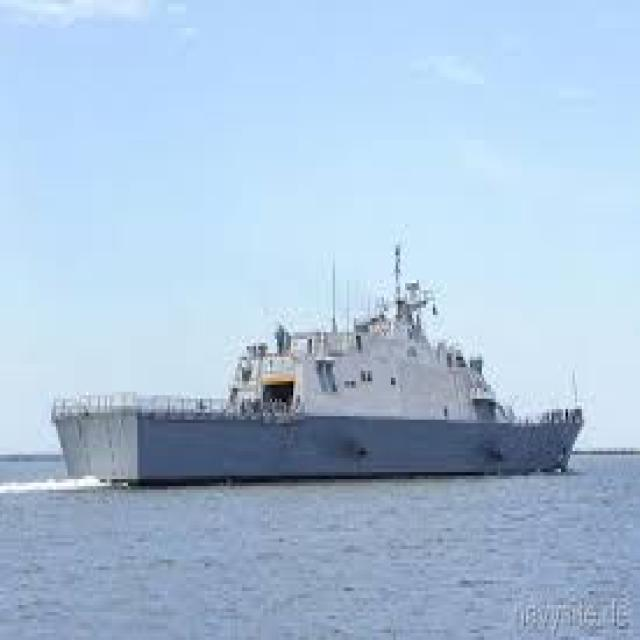navalvessels: (41, 235, 578, 500)
